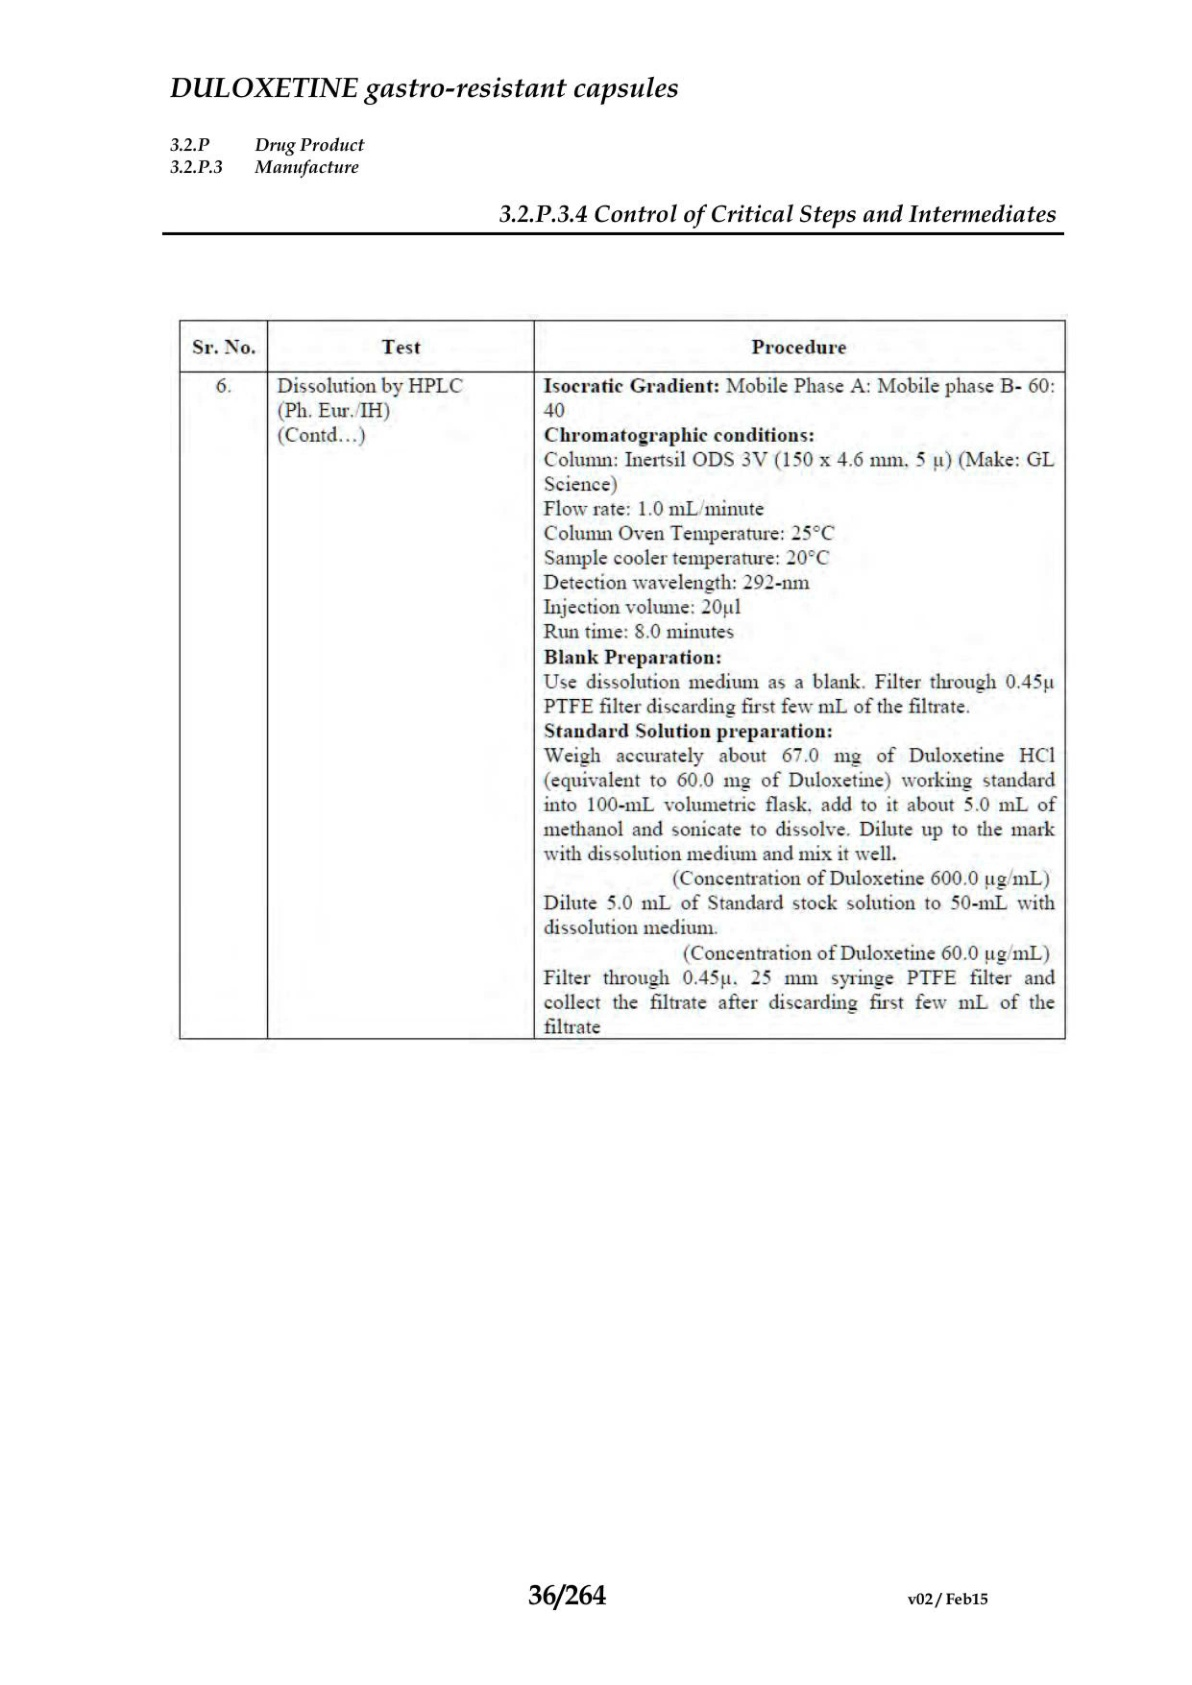full_lined: (177, 317, 1067, 1041)
